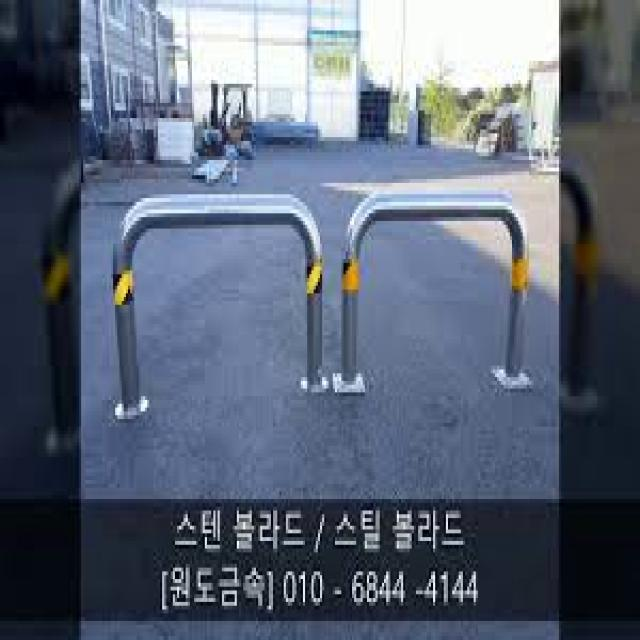bollard: (110, 187, 332, 426), (331, 183, 542, 407)
